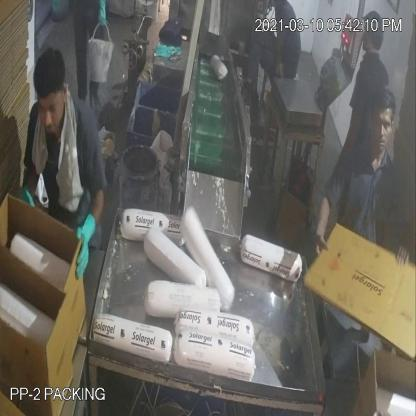glove: (68, 210, 108, 282)
no_glove: (307, 174, 337, 274), (333, 99, 366, 181)
